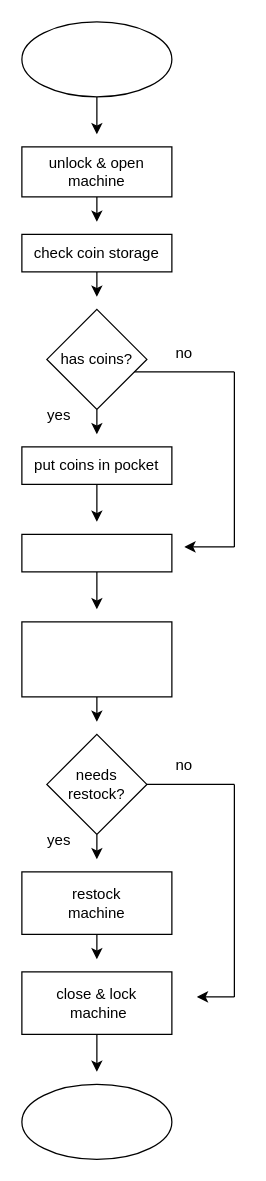
This 266x1181 diagram has some shape labels left out. The box of each missing label's shape, as (x1, y1, x2, y2) in pixels:
approach machine: (21, 21, 172, 97)
close coin storage: (21, 533, 172, 572)
leave: (21, 1083, 172, 1159)
view vending machine stock: (21, 621, 172, 697)
